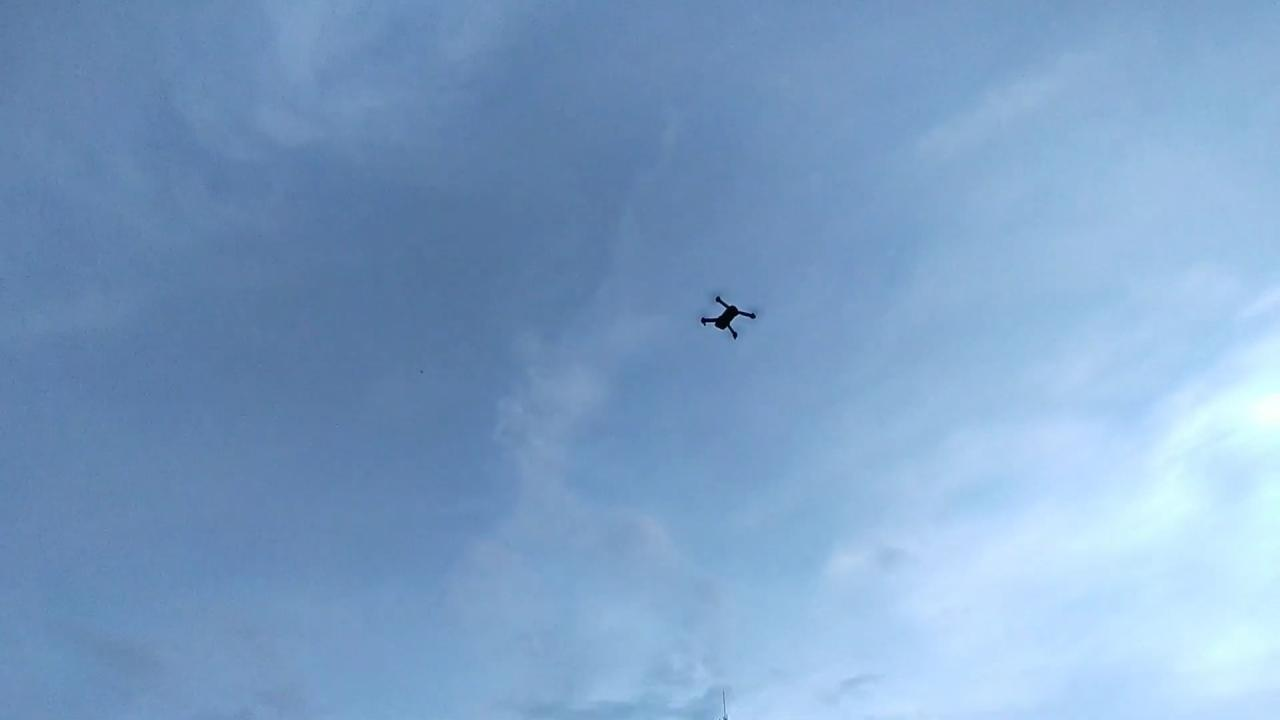Drone: (689, 287, 768, 347)
